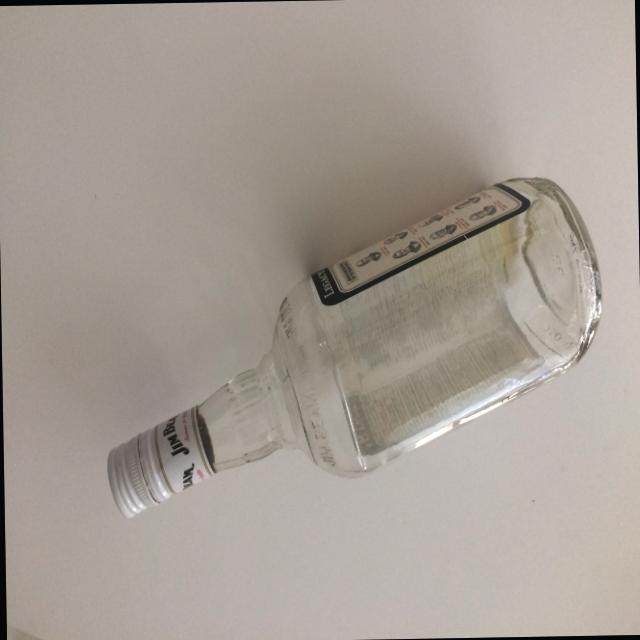Glass: (99, 164, 614, 553)
